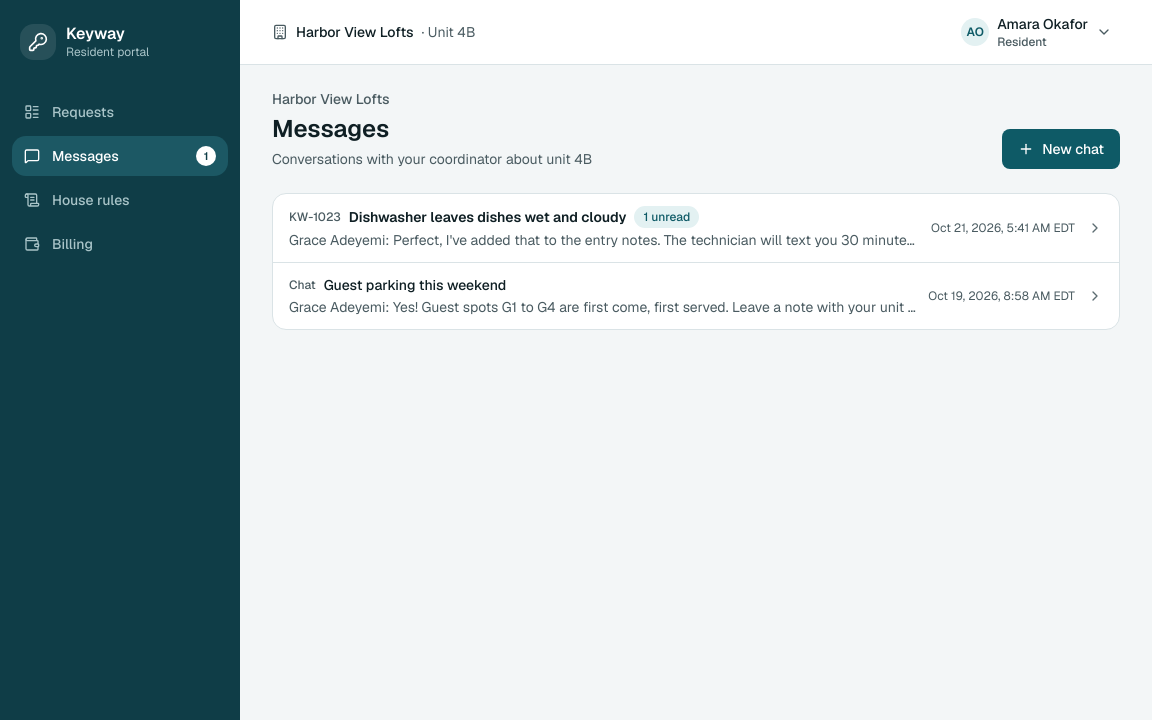
Test: messages › lets a resident start a general chat that the coordinator answers
Click the link "New chat".
click(1061, 149)  # box [1002,129,1120,169]
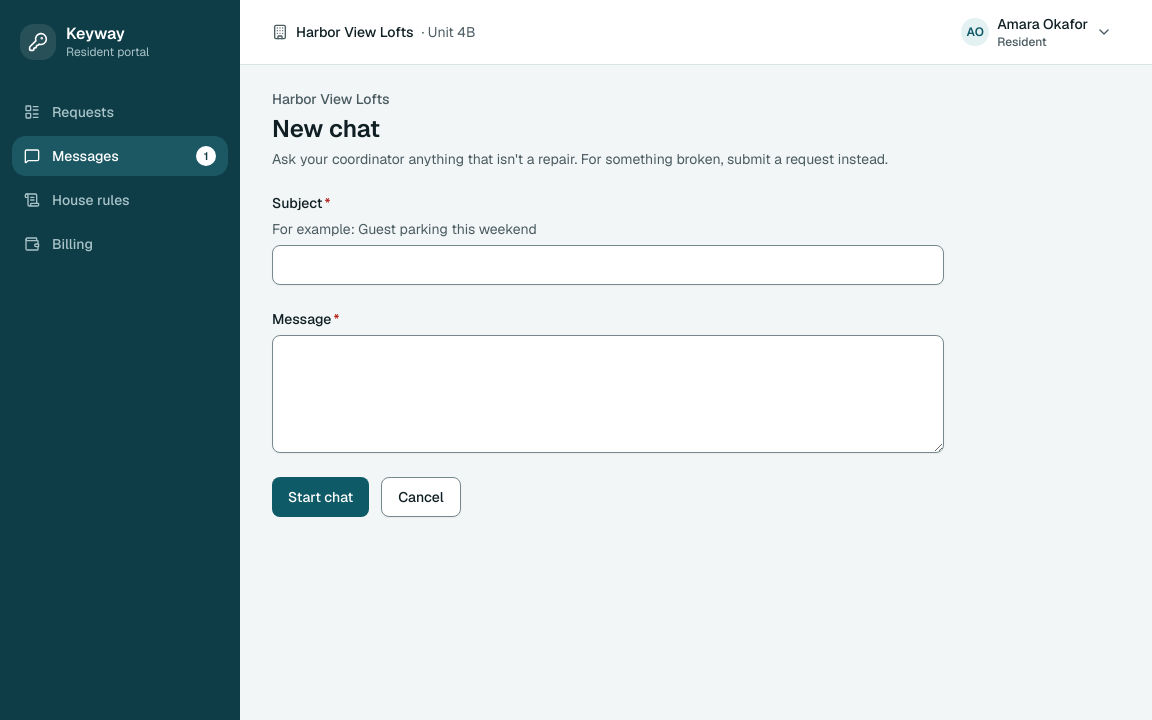
Expected: the heading "New chat" is shown, [272,113,380,144]
Type "Bike storage key" into the field labelled "Subject*".
click(608, 265); type("Bike storage key")  # box [272,245,944,285]
Type "Where do I get a key for the bike room?" into the text box labelled "Message*".
click(608, 394); type("Where do I get a key for the bike room?")  # box [272,335,944,453]
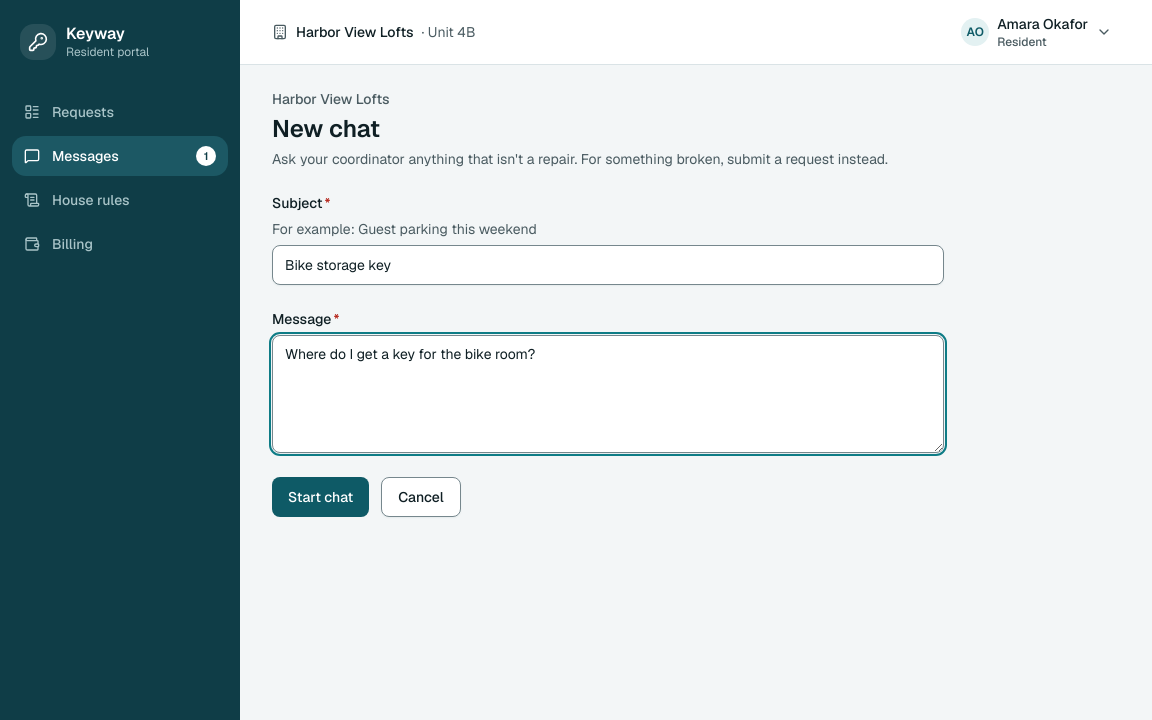
Click the button "Start chat".
click(321, 497)  # box [272,477,369,517]
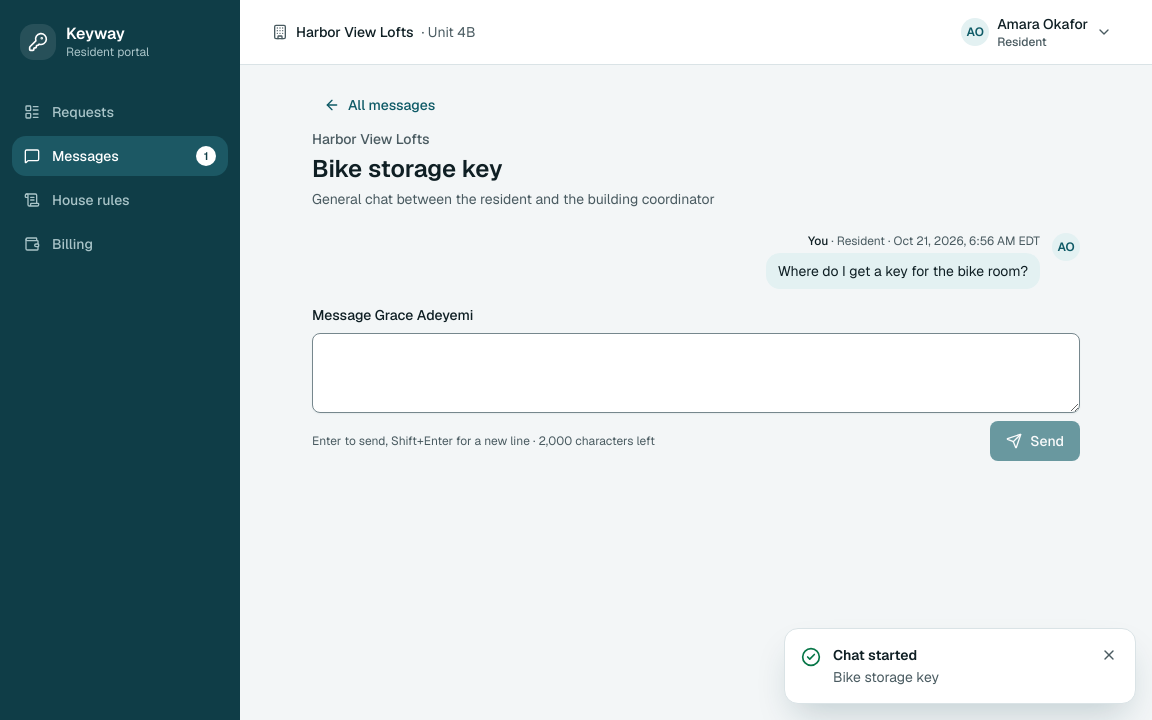
Expected: the heading "Bike storage key" is shown, [312,153,503,184]
Expected: the list named "Conversation" shows "bike room", [766,233,1080,289]
Open "/messages"
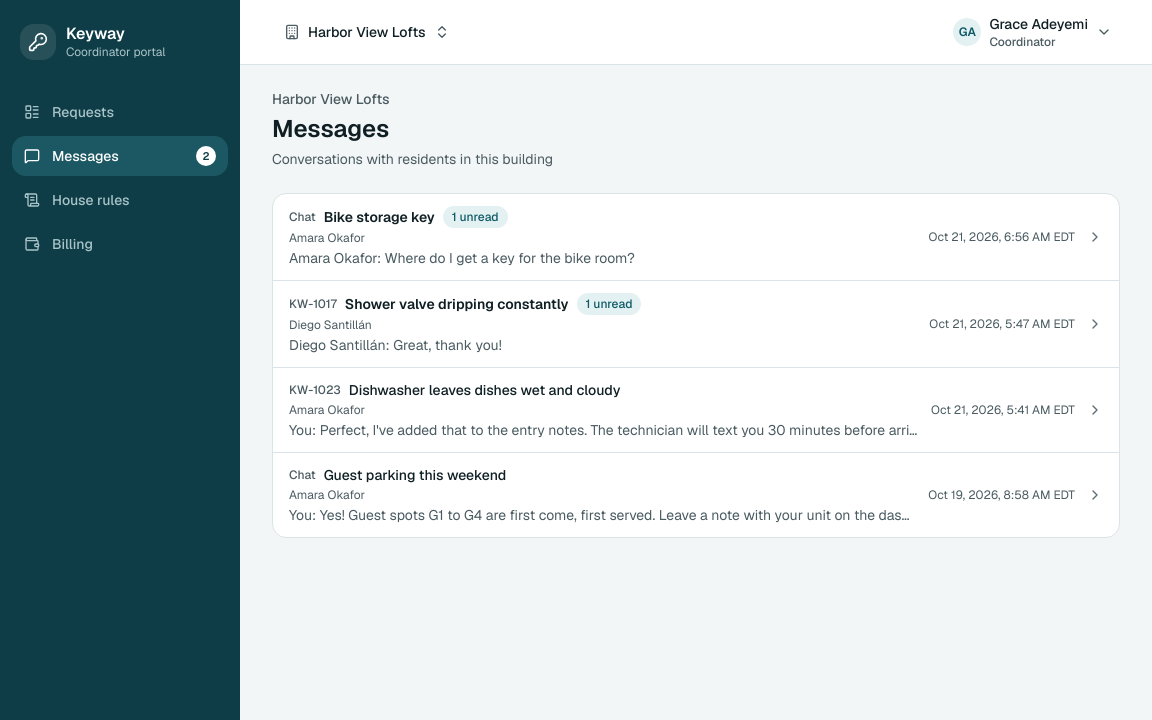
Expected: the link "Bike storage key" shows "1 unread"
Click the link "Bike storage key".
click(379, 217)  # box [273,194,1119,280]
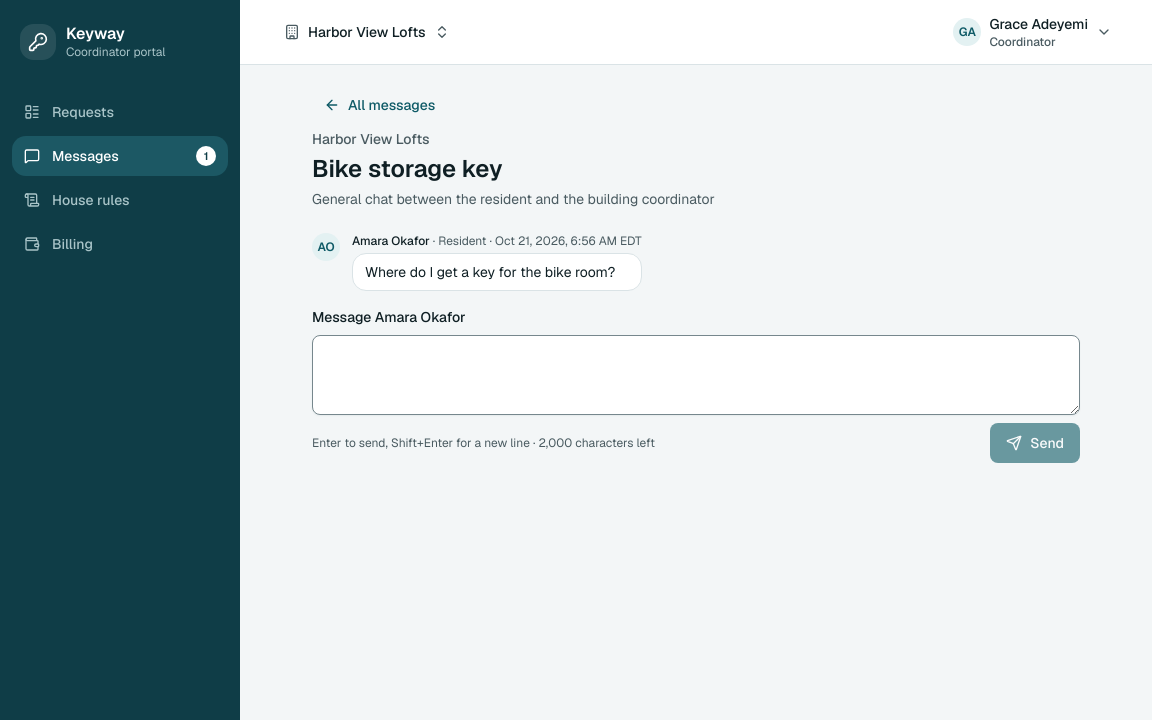
Type "The front desk has them." into the text box labelled "Message Amara Okafor".
click(696, 375); type("The front desk has them.")  # box [312,335,1080,415]
Then press Enter
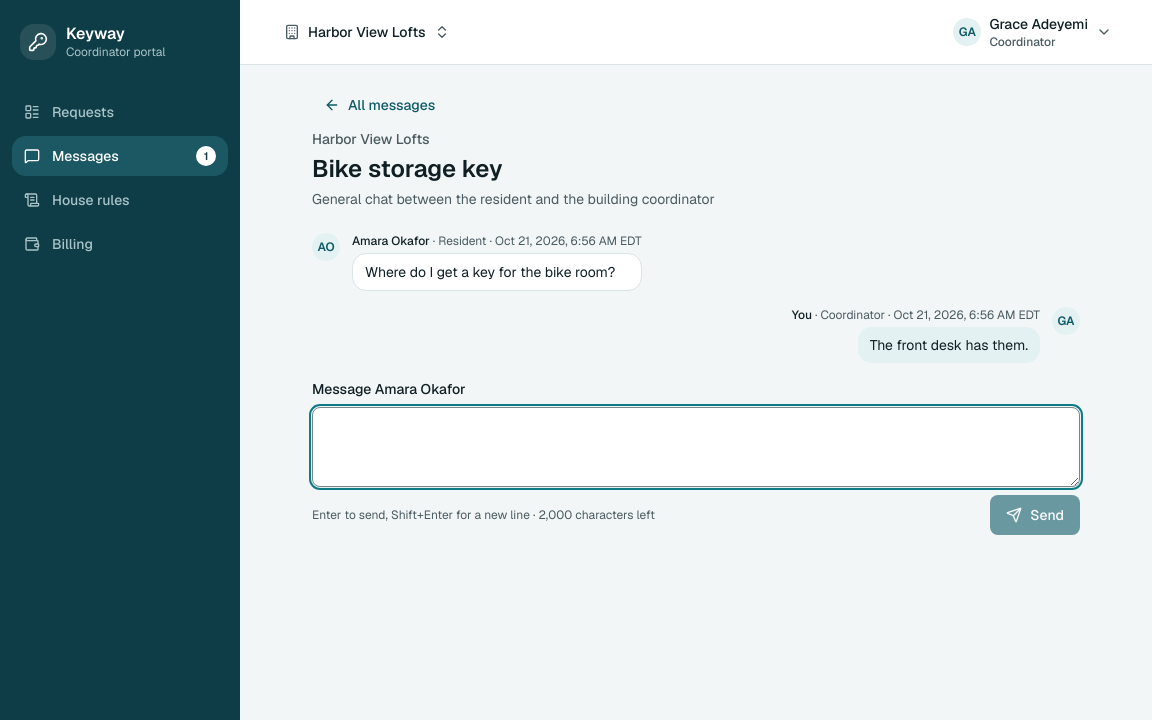
Expected: the list named "Conversation" shows "front desk", [312,233,1080,363]
